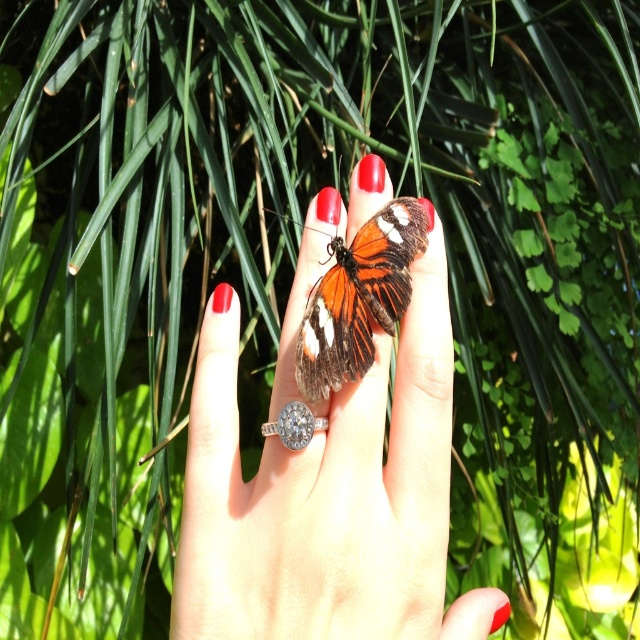Butterfly: (277, 163, 416, 415)
